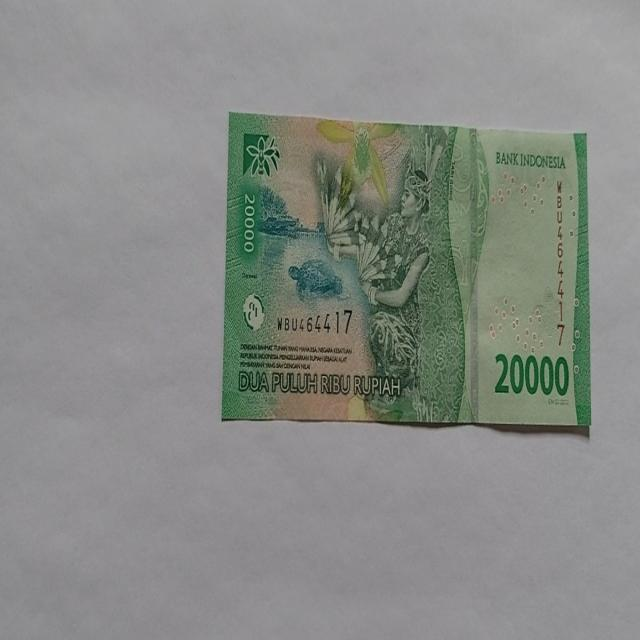dua puluh ribu rupiah: (221, 113, 591, 432)
